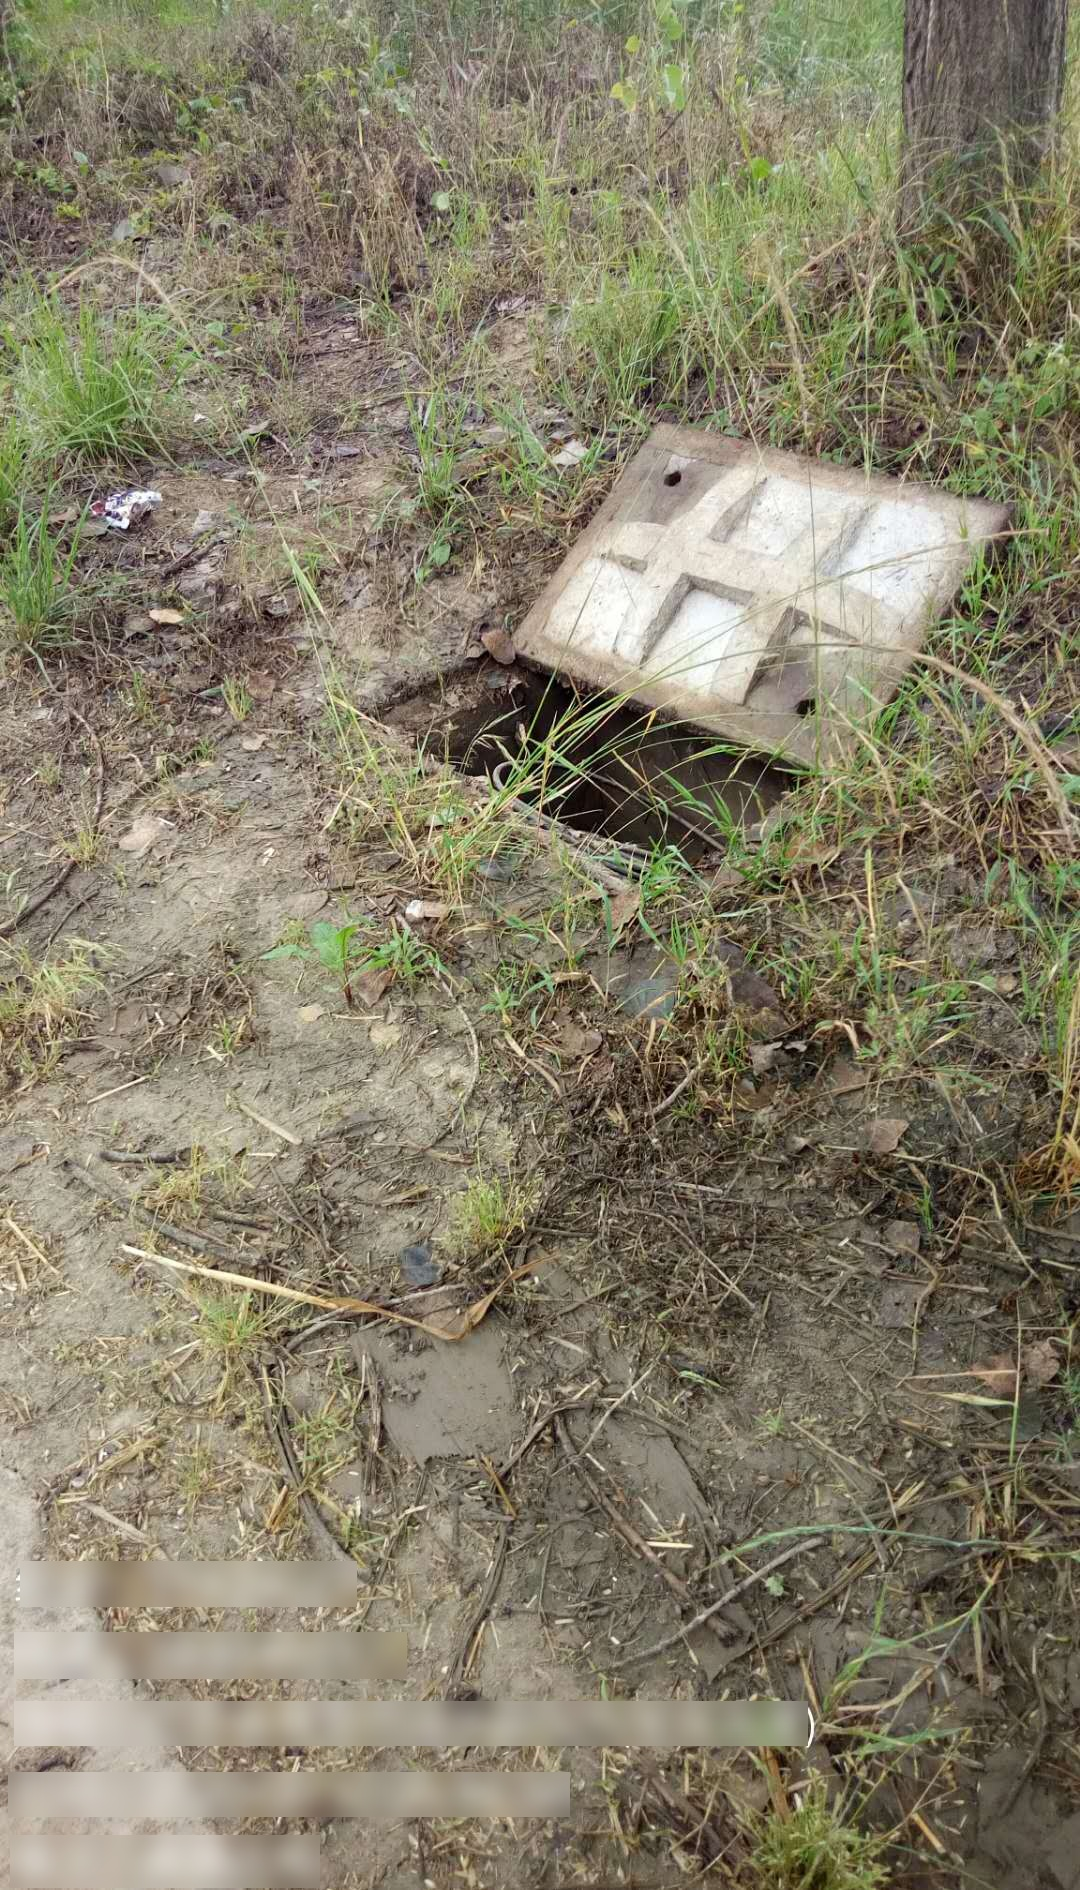uncovered: (353, 424, 1011, 889)
